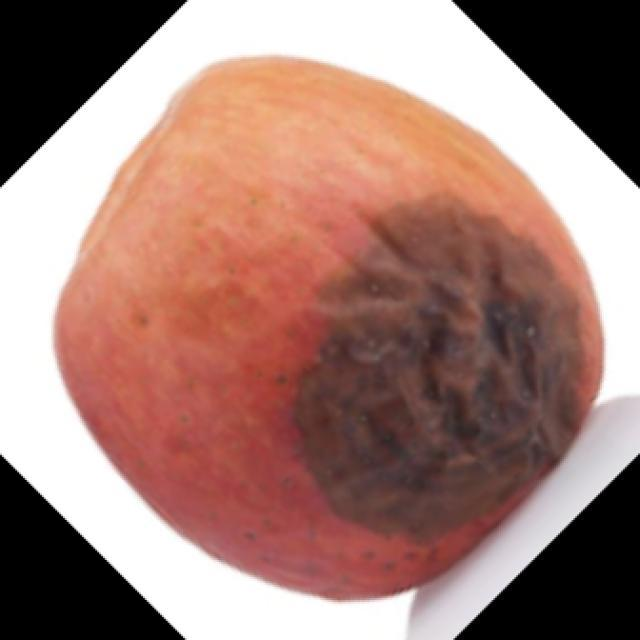Rotten: (73, 20, 607, 602)
